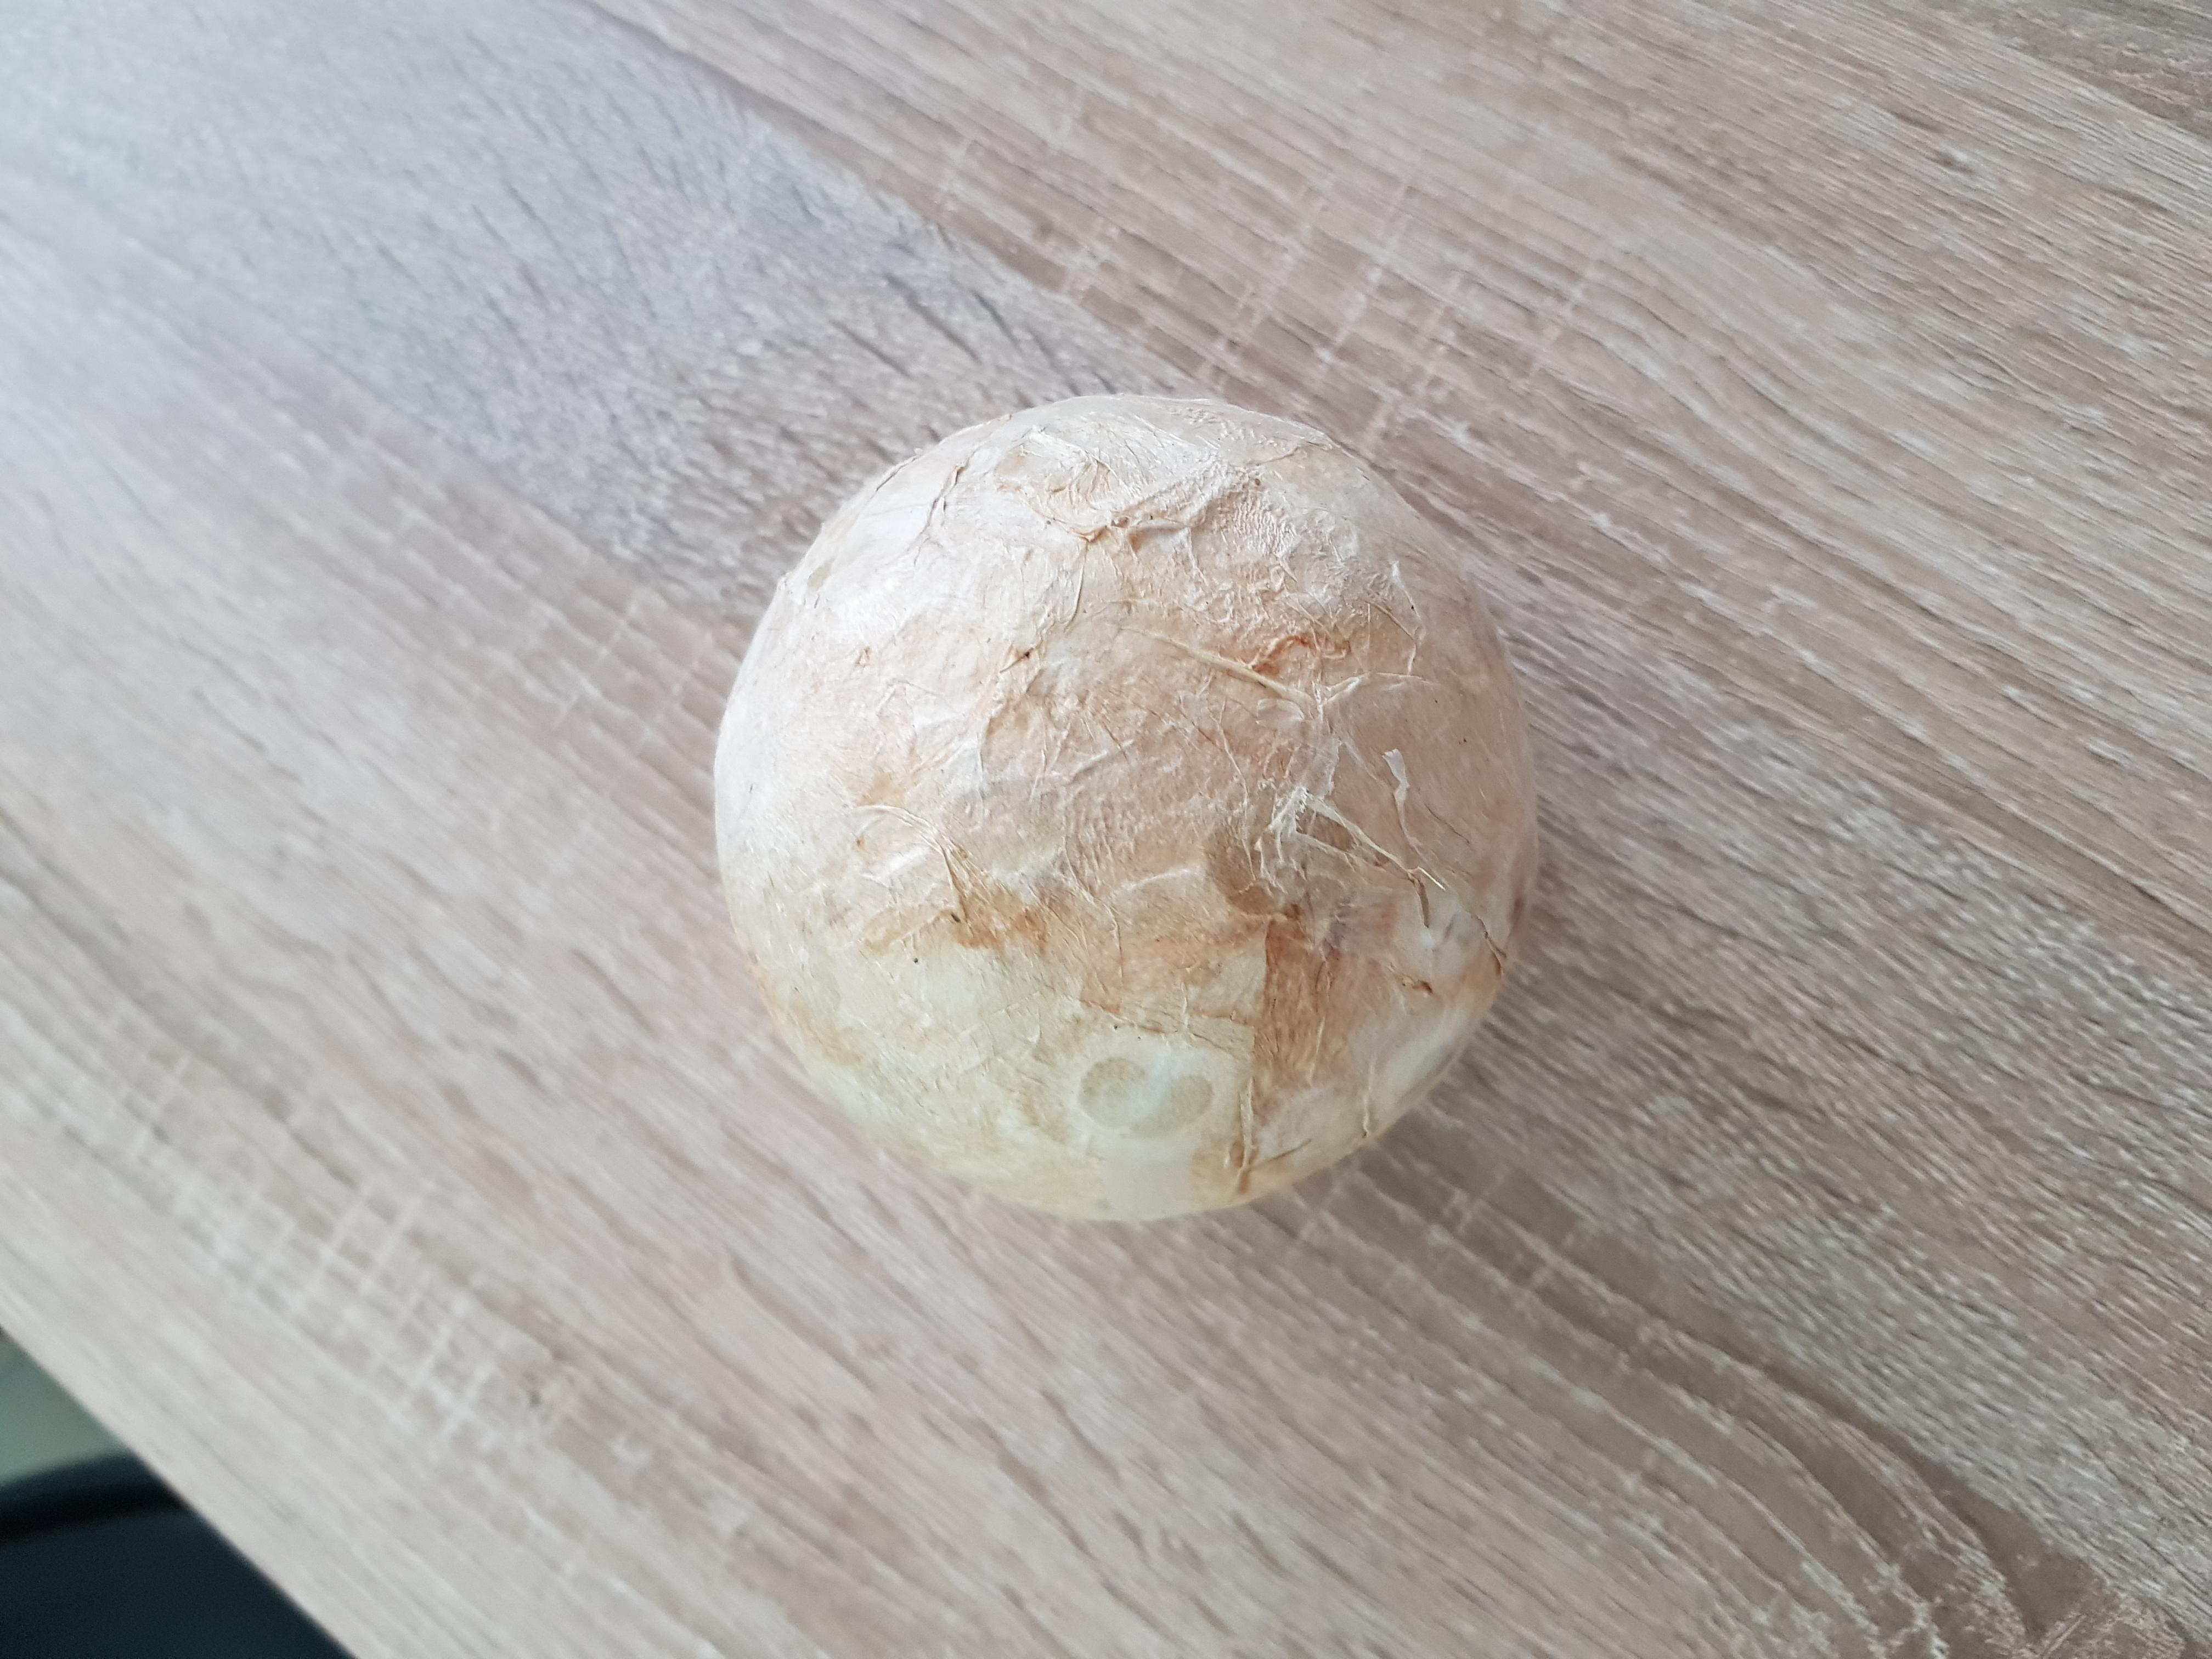sphere: (695, 390, 1555, 1236)
